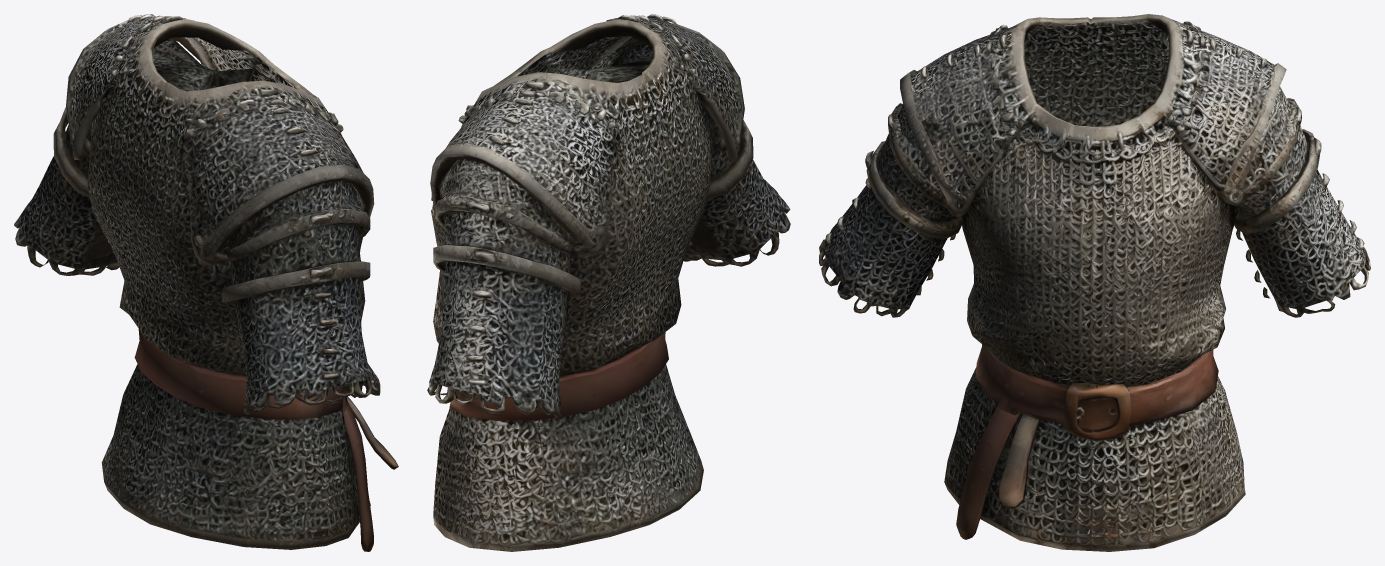
The model's file is armors-maille.glb.
3 renders of one model, left to right at view 1: azimuth 30°, elevation 25°; view 2: azimuth 150°, elevation 25°; view 3: azimuth 270°, elevation 25°, orthographic. The views are drawn at different scales.
Visible parts, largest first — view 1: tripo_node_48d2b262-bcbc-44fe-82d1-2e385036eec8; view 2: tripo_node_48d2b262-bcbc-44fe-82d1-2e385036eec8; view 3: tripo_node_48d2b262-bcbc-44fe-82d1-2e385036eec8.
Part boxes in pixels (<box>): tripo_node_48d2b262-bcbc-44fe-82d1-2e385036eec8: <box>14,14,398,551</box>; tripo_node_48d2b262-bcbc-44fe-82d1-2e385036eec8: <box>427,14,790,551</box>; tripo_node_48d2b262-bcbc-44fe-82d1-2e385036eec8: <box>819,14,1370,551</box>.
Size of the model in its own units: 0.4824 by 0.9395 by 0.998.
Materials: 1 (1 with a texture image).
